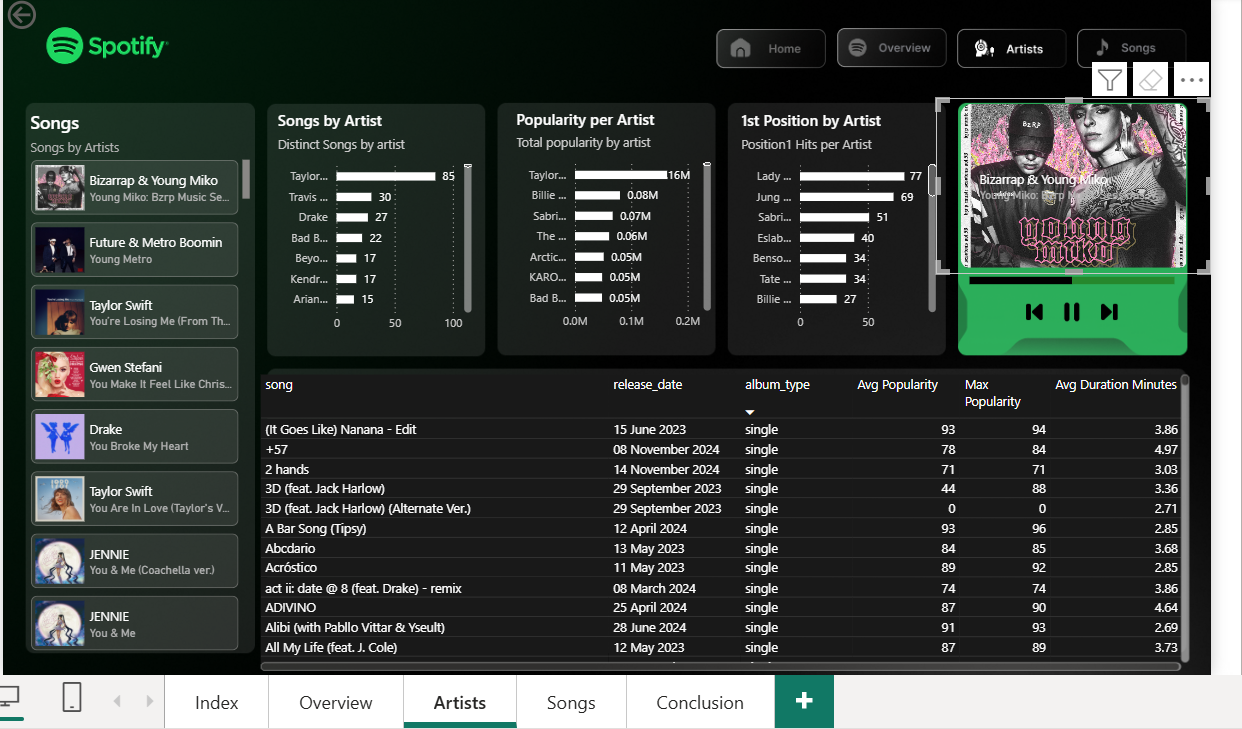

This screenshot's page, from the dashboard's own definition file:
{"tool":"powerbi","page":{"name":"Artists","canvas":[1280,720],"ordinal":2},"visuals":[{"type":"actionButton","box":[756.1,32.9,114.5,39.8],"z":0},{"type":"actionButton","box":[1013.7,32.9,100.2,39.8],"z":1000},{"type":"actionButton","box":[1137.8,32.9,111.3,39.8],"z":2000},{"type":"actionButton","box":[884.9,37.6,114.5,36.6],"z":3000},{"type":"advancedSlicerVisual","title":"Songs","fields":{"Values":["Top-50-World.song"]},"box":[23.9,120.9,243.4,580.6],"z":4000},{"type":"advancedSlicerVisual","title":"Songs","fields":{"Values":["Top-50-World.song"]},"box":[989.4,108.2,291.1,186.1],"z":5000},{"type":"hundredPercentStackedBarChart","fields":{"Y":["_Measures.Avg Popularity","Avg(Top-50-World.popularity)"]},"box":[1019.6,262.5,227.5,71.6],"z":6000},{"type":"image","box":[1153.7,319.2,39.8,30.2],"z":7000},{"type":"image","box":[1074.2,319.2,39.8,30.2],"z":8000},{"type":"image","box":[1114,319.2,39.8,30.2],"z":9000},{"type":"tableEx","fields":{"Values":["Top-50-World.song","Top-50-World.release_date","Top-50-World.album_type","_Measures.Avg Popularity","_Measures.Max Popularity","_Measures.Avg Duration Minutes"]},"box":[267.2,396.1,995.7,324.5],"z":10000},{"type":"actionButton","box":[0,0,100,40],"z":11000},{"type":"clusteredBarChart","title":"Songs by Artist","fields":{"Y":["_Measures.Distinct Songs"],"Category":["Top-50-World.artist"]},"box":[286.4,121.5,215.4,243.8],"z":12000},{"type":"clusteredBarChart","title":"Popularity per Artist","fields":{"Y":["Sum(Top-50-World.popularity)"],"Category":["Top-50-World.artist"]},"box":[538.7,119.8,216.3,243.4],"z":13000},{"type":"clusteredBarChart","title":"1st Position by Artist","fields":{"Y":["_Measures.Position1 Hits per Artist"],"Category":["Top-50-World.artist"]},"box":[777.3,120.6,216.3,243.4],"z":14000}]}

Visuals, with their boxes on the page's 1280x720 design canvas (x1, y1, x2, y2). These are canvas units, not pixel positions in the 1242x729 screenshot, which may show the page scaled, cropped or inside an application window:
actionButton: (756,33,871,73)
actionButton: (1014,33,1114,73)
actionButton: (1138,33,1249,73)
actionButton: (885,38,999,74)
"Songs" advancedSlicerVisual: (24,121,267,702)
"Songs" advancedSlicerVisual: (989,108,1280,294)
hundredPercentStackedBarChart - _Measures.Avg Popularity x Avg(Top-50-World.popularity): (1020,262,1247,334)
image: (1154,319,1194,349)
image: (1074,319,1114,349)
image: (1114,319,1154,349)
tableEx - Top-50-World.song x Top-50-World.release_date: (267,396,1263,721)
actionButton: (0,0,100,40)
"Songs by Artist" clusteredBarChart: (286,122,502,365)
"Popularity per Artist" clusteredBarChart: (539,120,755,363)
"1st Position by Artist" clusteredBarChart: (777,121,994,364)
